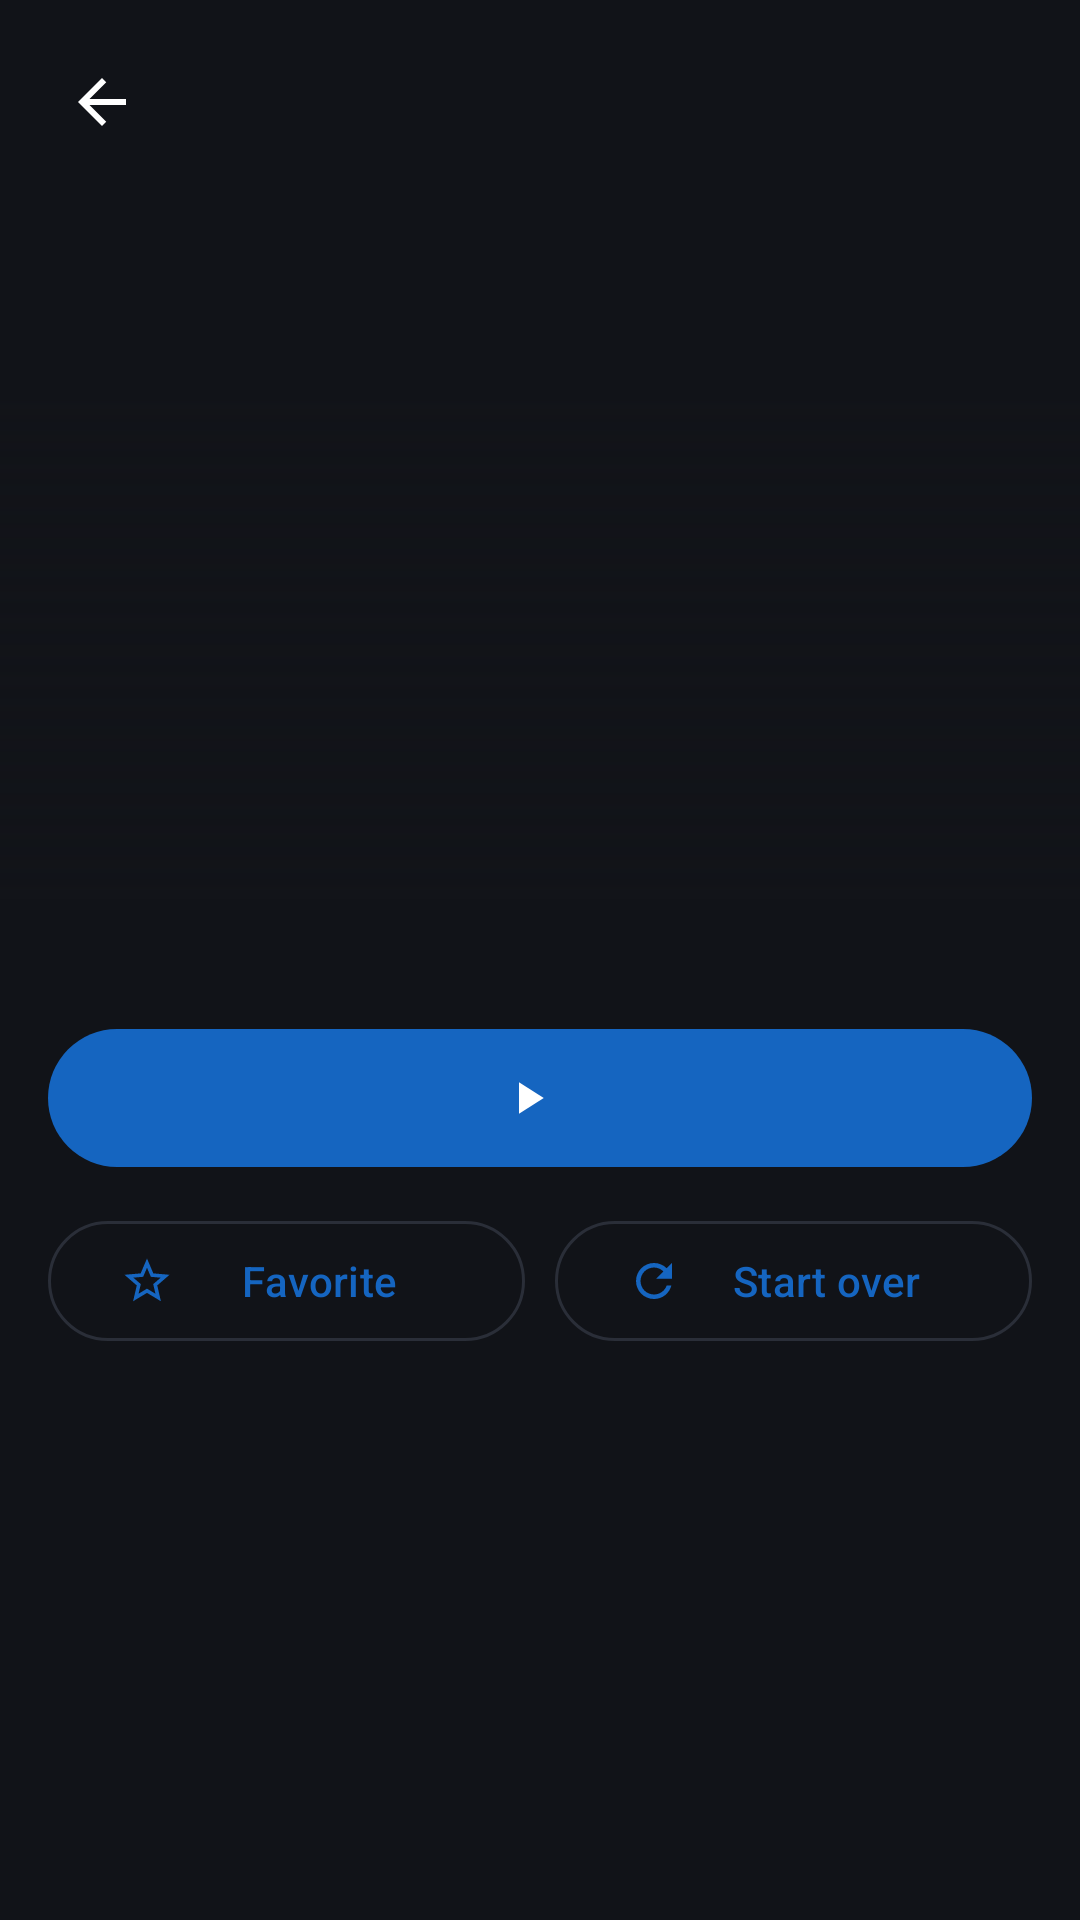

Where to tap for icons on this 1080w x 1920h app screen, as (x=x, y=y):
Back: (x=102, y=102)
